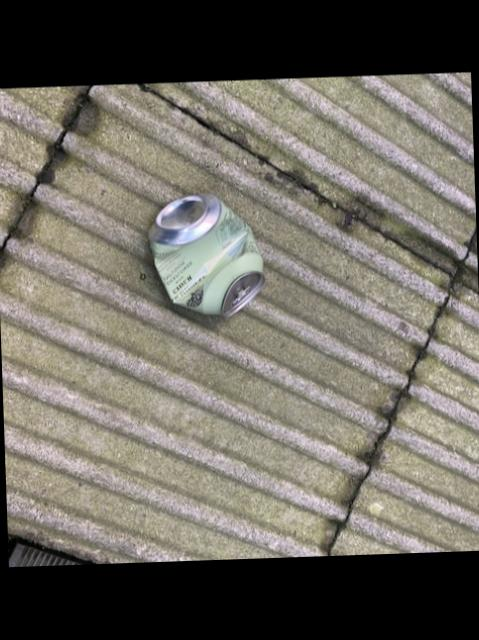metal: (150, 196, 265, 319)
